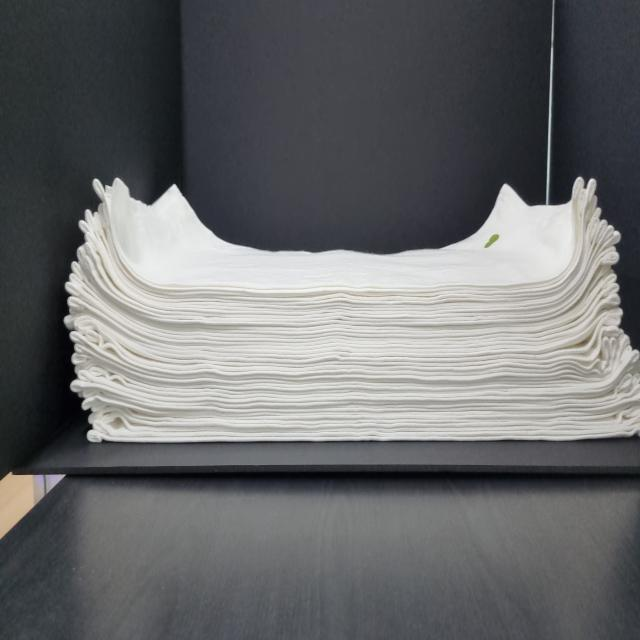not_50count_towel: (55, 155, 640, 456)
